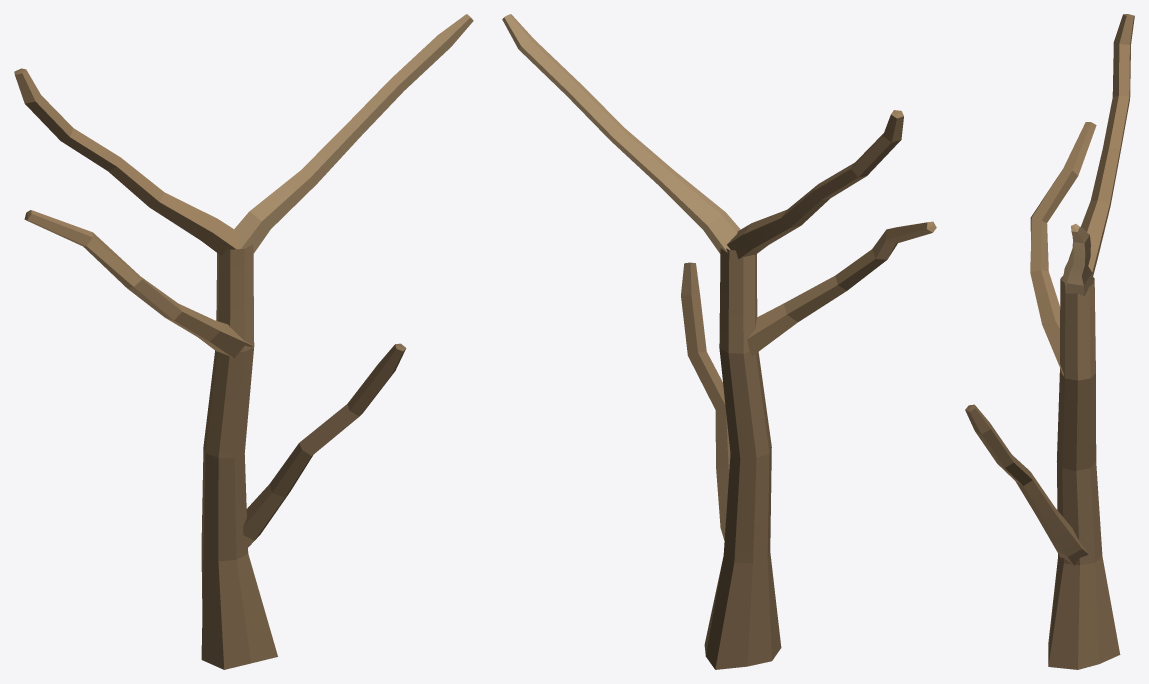
The model's file is naked_tree_3.fbx.
3 views of the same model, side by side, from view 1: azimuth 30°, elevation 25°; view 2: azimuth 150°, elevation 25°; view 3: azimuth 270°, elevation 25° (orthographic). The views are drawn at different scales.
Parts seen in each view (by area): view 1: naked_tree_3; view 2: naked_tree_3; view 3: naked_tree_3.
Part boxes in pixels (<box>): naked_tree_3: <box>14,14,473,669</box>; naked_tree_3: <box>502,14,936,669</box>; naked_tree_3: <box>965,14,1134,669</box>.
Size of the model in its own units: 470 by 621 by 171.
